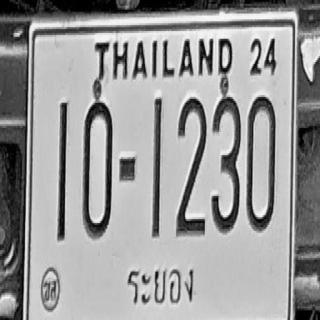N00: (82, 98, 112, 238), (246, 94, 275, 232)
N01: (152, 96, 162, 238), (58, 102, 68, 242)
N02: (176, 96, 207, 236)
N03: (211, 94, 241, 234)
P53: (125, 260, 196, 310)
